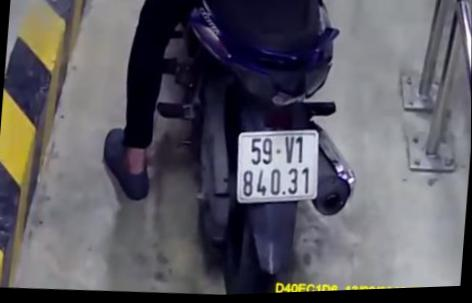LP: (232, 126, 324, 211)
